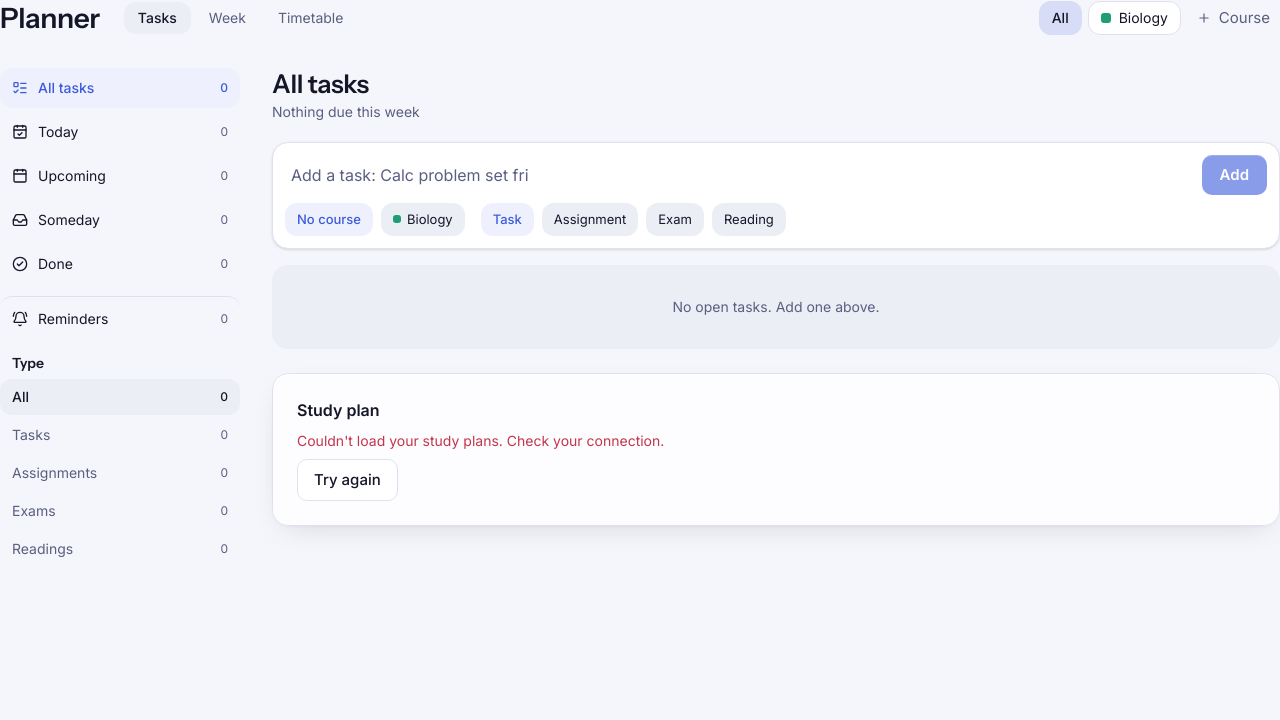
Planner tabs › says nothing is planned yet on an empty week
This screenshot has width=1280, height=720.
Click the tab "Week": (227, 18) [195, 2, 260, 34]
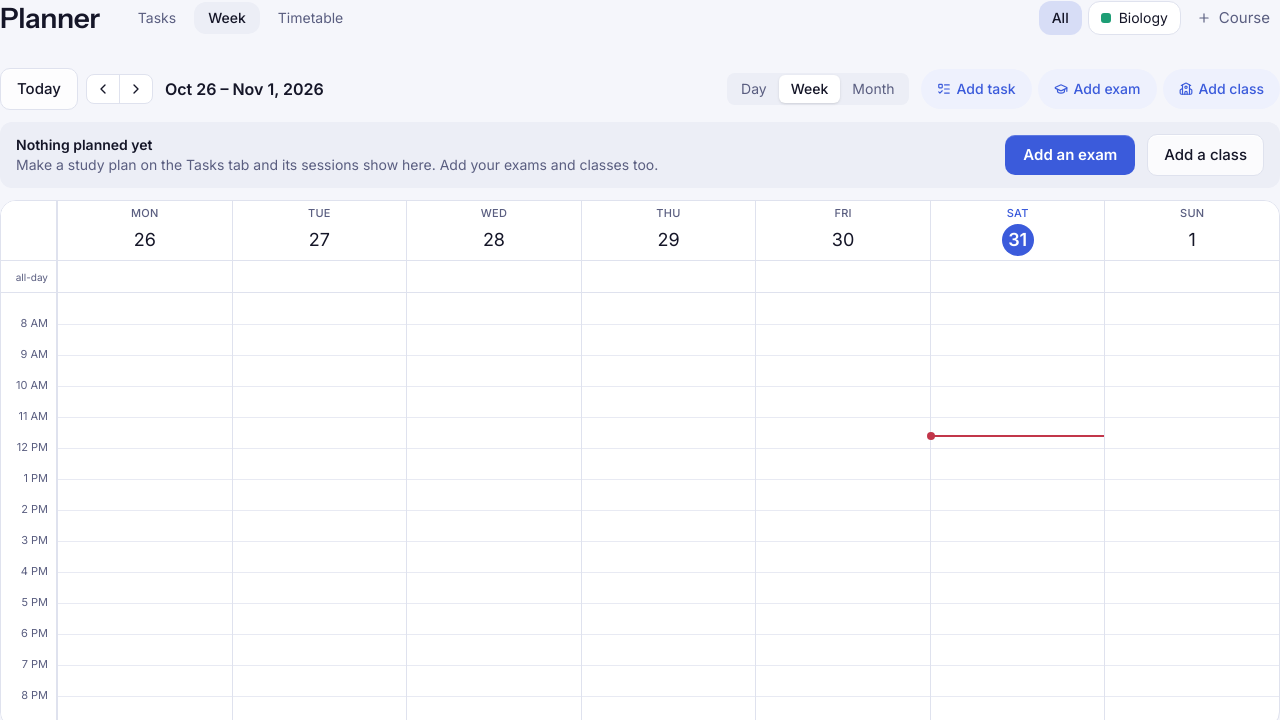
expect the heading "Nothing planned yet" is shown: met, box [16, 136, 152, 153]
